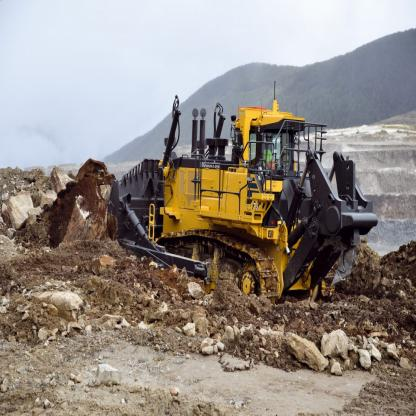bull_dozer/loader/grader: (76, 76, 380, 324)
